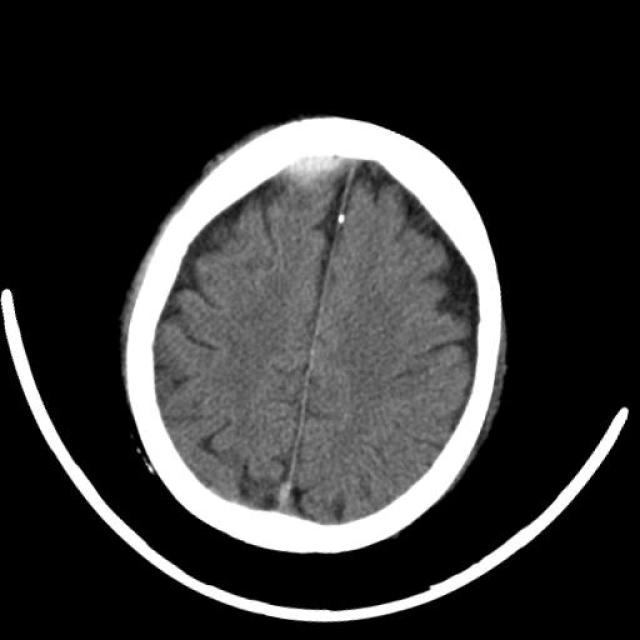Subdural: (264, 100, 376, 220)
